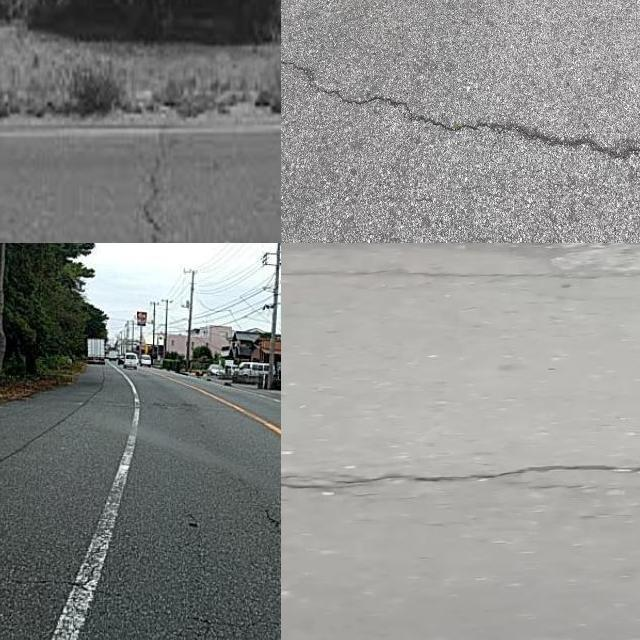Melintang: (281, 43, 640, 172), (281, 445, 640, 506)
Memanjang: (138, 131, 182, 243), (252, 502, 281, 555)
